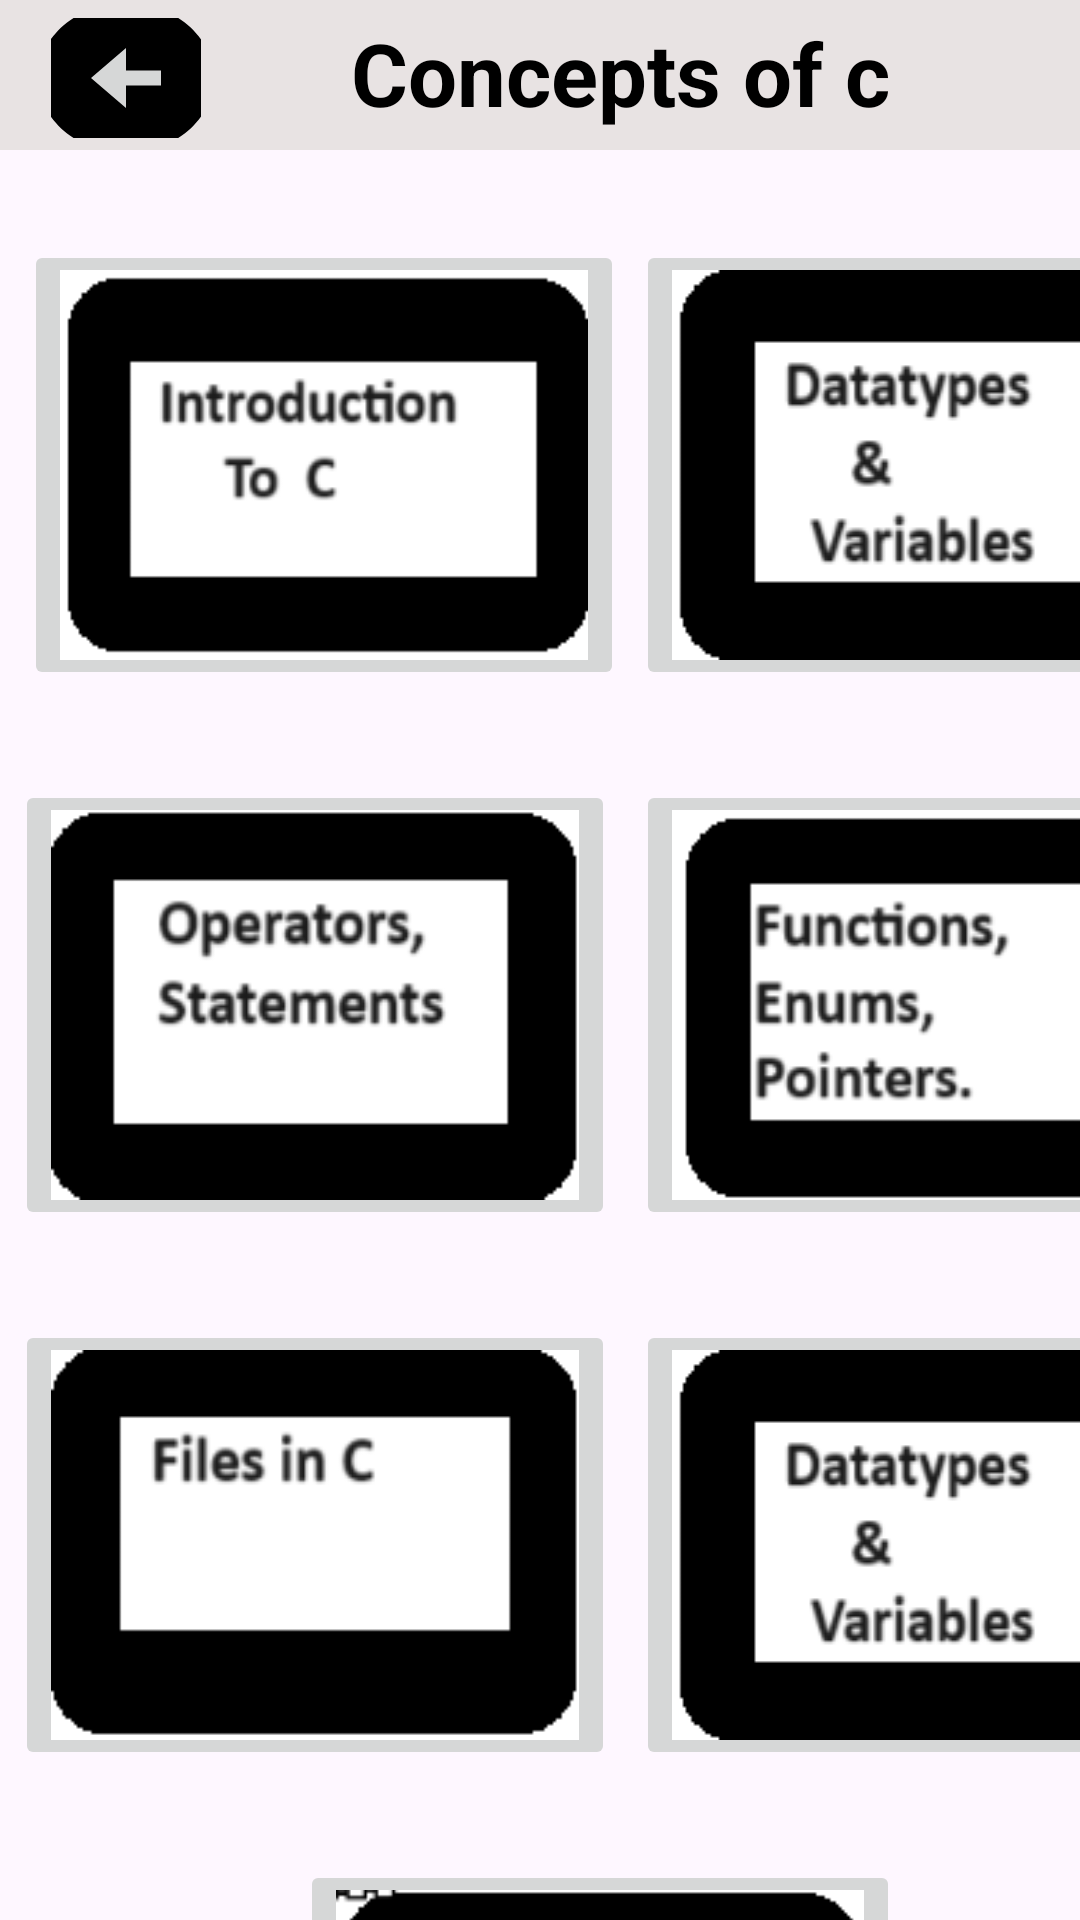

Screen size 1080 × 1920. Icon name, then its box in pixels as [x1=x1, y1=y1, x2=x2, y2=y2]:
arrow circle left: [x1=51, y1=18, x2=201, y2=138]
